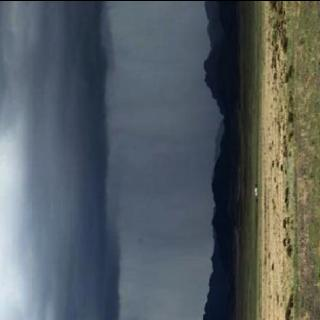Nimbostratus: (0, 0, 127, 320)
